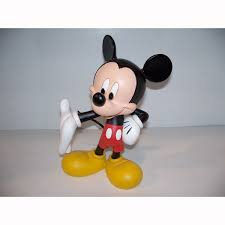Mickey: (86, 34, 173, 124)
